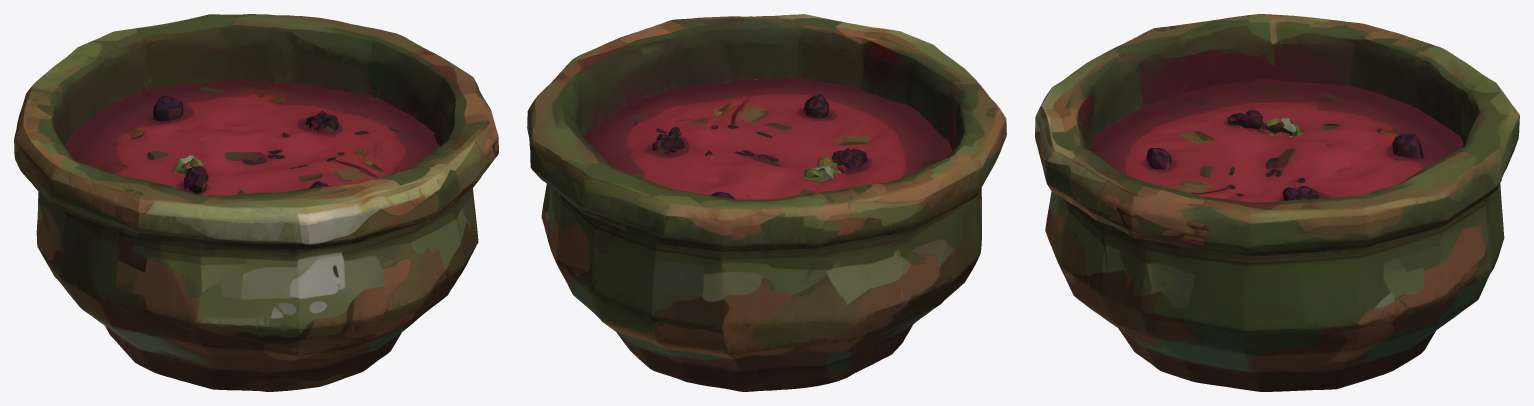
File: food_berry_soup.glb
3 renders of one model, left to right at view 1: azimuth 30°, elevation 25°; view 2: azimuth 150°, elevation 25°; view 3: azimuth 270°, elevation 25°, orthographic.
Visible parts, largest first — view 1: food_berry_soup; view 2: food_berry_soup; view 3: food_berry_soup.
Boxes of the visible parts, box(x1,y1,x2,y2) form: food_berry_soup: box(14, 14, 498, 391); food_berry_soup: box(527, 14, 1006, 391); food_berry_soup: box(1035, 14, 1519, 391).
Size of the model in its own units: 0.2 by 0.1008 by 0.1995.
1 material, 1 textured.
